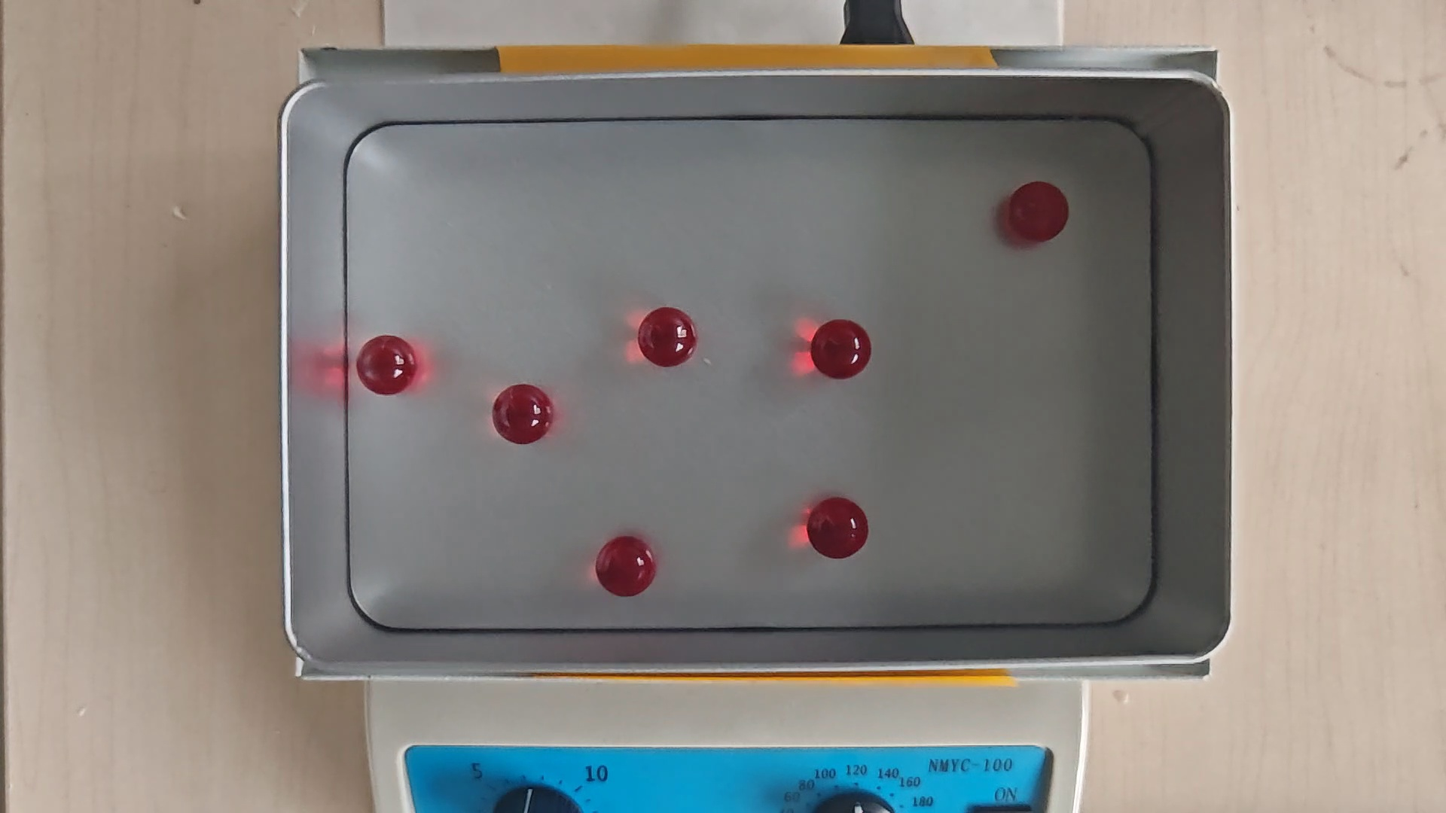ball: (593, 534, 658, 598), (491, 382, 555, 445), (356, 333, 419, 396), (810, 317, 872, 380), (807, 498, 869, 559), (1008, 180, 1069, 242), (637, 306, 697, 368)
container: (345, 117, 1155, 626)
